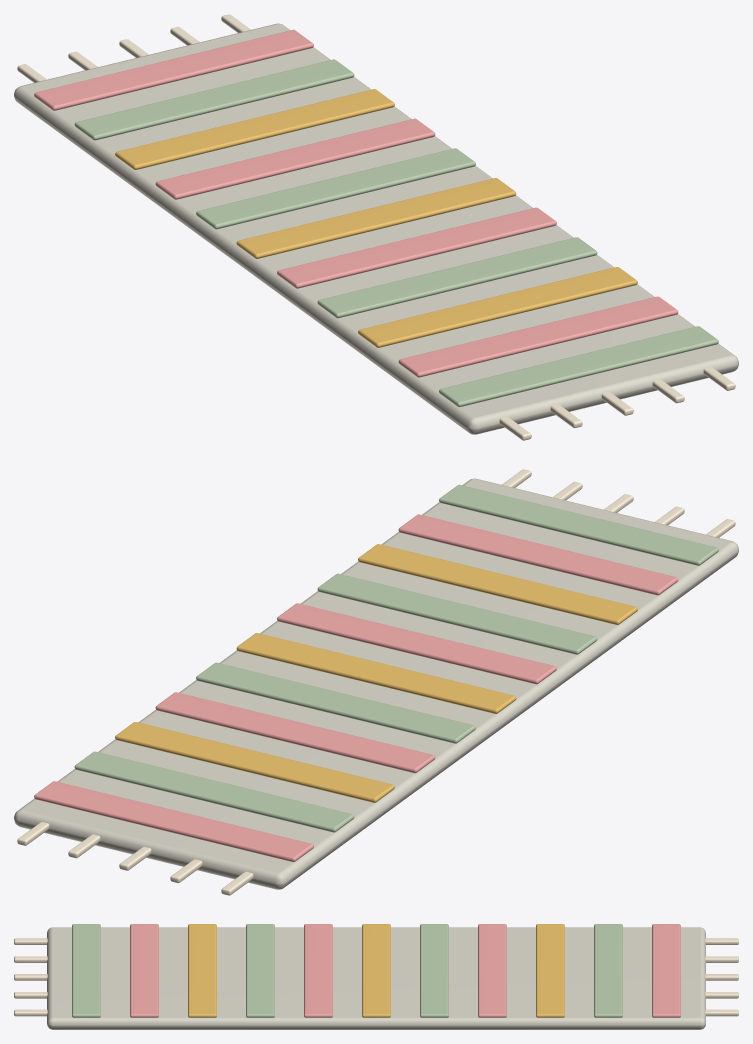
File: rugStripedRunner.glb
The picture shows the model from 3 angles, top to bottom: view 1: azimuth 30°, elevation 25°; view 2: azimuth 150°, elevation 25°; view 3: azimuth 270°, elevation 25°; orthographic projection. The views are drawn at different scales.
Parts seen in each view (by area): view 1: Runner backing, Woven runner stripe.004, Woven runner stripe.007, Woven runner stripe.009, Woven runner stripe.001, Woven runner stripe.003, Woven runner stripe.006, Woven runner stripe.010, Woven runner stripe, Woven runner stripe.005, Woven runner stripe.002, Woven runner stripe.008; view 2: Runner backing, Woven runner stripe.006, Woven runner stripe.001, Woven runner stripe.003, Woven runner stripe, Woven runner stripe.004, Woven runner stripe.007, Woven runner stripe.009, Woven runner stripe.005, Woven runner stripe.010, Woven runner stripe.008, Woven runner stripe.002; view 3: Runner backing, Woven runner stripe, Woven runner stripe.001, Woven runner stripe.002, Woven runner stripe.003, Woven runner stripe.004, Woven runner stripe.005, Woven runner stripe.006, Woven runner stripe.007, Woven runner stripe.008, Woven runner stripe.009, Woven runner stripe.010 (+10 smaller).
Boxes of the visible parts, bbox=[...] form: Runner backing: bbox=[14, 23, 738, 434]; Woven runner stripe.004: bbox=[277, 207, 556, 288]; Woven runner stripe.007: bbox=[155, 118, 435, 199]; Woven runner stripe.009: bbox=[74, 59, 354, 140]; Woven runner stripe.001: bbox=[398, 296, 678, 377]; Woven runner stripe.003: bbox=[317, 237, 597, 318]; Woven runner stripe.006: bbox=[196, 148, 475, 229]; Woven runner stripe.010: bbox=[34, 29, 313, 110]; Woven runner stripe: bbox=[439, 326, 718, 407]; Woven runner stripe.005: bbox=[236, 178, 516, 258]; Woven runner stripe.002: bbox=[358, 267, 637, 347]; Woven runner stripe.008: bbox=[115, 89, 394, 169]; Runner backing: bbox=[14, 478, 738, 889]; Woven runner stripe.006: bbox=[196, 662, 475, 743]; Woven runner stripe.001: bbox=[398, 514, 678, 595]; Woven runner stripe.003: bbox=[317, 573, 597, 654]; Woven runner stripe: bbox=[439, 484, 718, 565]; Woven runner stripe.004: bbox=[277, 603, 556, 684]; Woven runner stripe.007: bbox=[155, 692, 435, 773]; Woven runner stripe.009: bbox=[74, 751, 354, 832]; Woven runner stripe.005: bbox=[236, 633, 516, 713]; Woven runner stripe.010: bbox=[34, 781, 313, 862]; Woven runner stripe.008: bbox=[115, 722, 394, 802]; Woven runner stripe.002: bbox=[358, 544, 637, 624]; Runner backing: bbox=[47, 927, 705, 1029]; Woven runner stripe: bbox=[72, 924, 100, 1017]; Woven runner stripe.001: bbox=[130, 924, 158, 1017]; Woven runner stripe.002: bbox=[188, 924, 216, 1017]; Woven runner stripe.003: bbox=[246, 924, 274, 1017]; Woven runner stripe.004: bbox=[304, 924, 332, 1017]; Woven runner stripe.005: bbox=[362, 924, 390, 1017]; Woven runner stripe.006: bbox=[420, 924, 448, 1017]; Woven runner stripe.007: bbox=[478, 924, 506, 1017]; Woven runner stripe.008: bbox=[536, 924, 564, 1017]; Woven runner stripe.009: bbox=[594, 924, 622, 1017]; Woven runner stripe.010: bbox=[652, 924, 680, 1017].
Bounding box in the file's own units: 0.85 × 0.0645 × 2.75.
